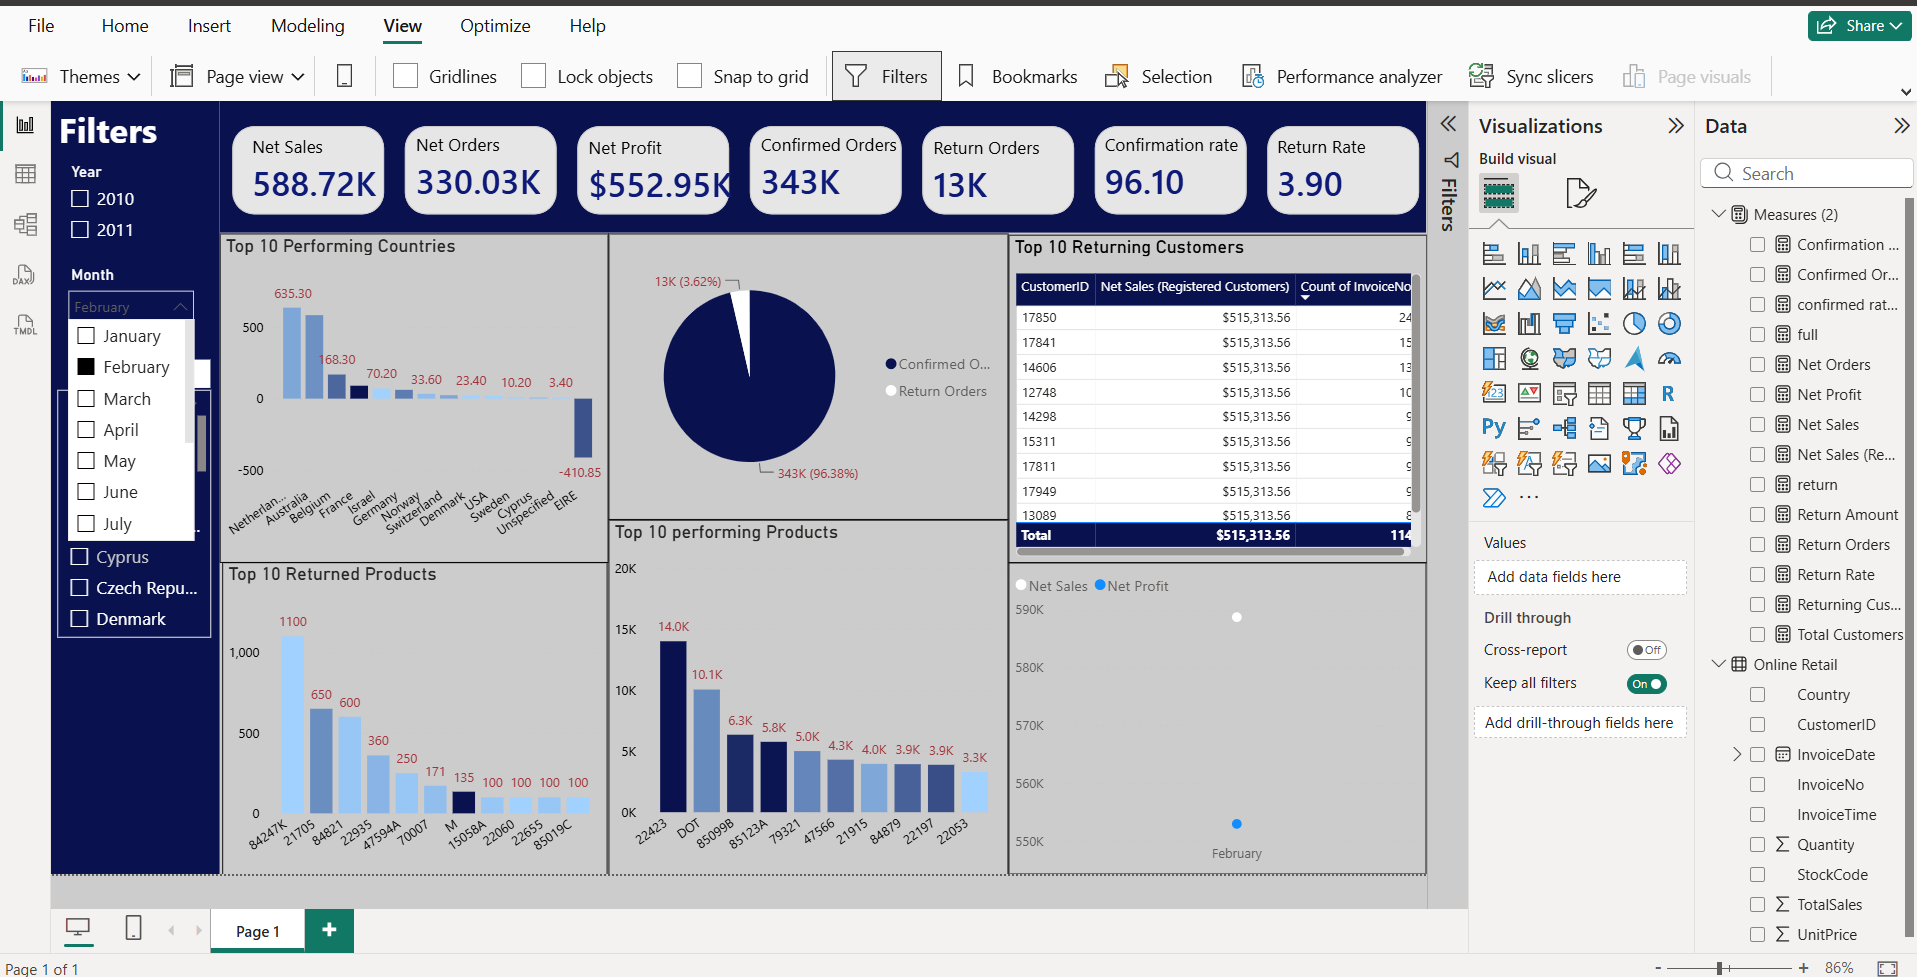

This screenshot's page, from the dashboard's own definition file:
{"tool":"powerbi","page":{"name":"Page 1","canvas":[1280,720],"ordinal":0},"visuals":[{"type":"shape","box":[0,0,156.8,719.9],"z":0},{"type":"shape","box":[156.8,0,1122.1,122.7],"z":1000},{"type":"barChart","fields":{"Category":["Online Retail.CustomerID"]},"box":[158.6,471.5,541.3,249.5],"z":2000},{"type":"slicer","fields":{"Values":["Online Retail.Country"]},"box":[2.3,540.7,143,179.1],"z":3000},{"type":"slicer","fields":{"Values":["Online Retail.InvoiceDate.Variation.Date Hierarchy.Year"]},"box":[2.8,52.4,157.8,105.7],"z":4000},{"type":"lineChart","title":"Net Sales and Net Profit Trend","fields":{"Category":["Online Retail.InvoiceDate.Variation.Date Hierarchy.Year","Online Retail.InvoiceDate.Variation.Date Hierarchy.Quarter","Online Retail.InvoiceDate.Variation.Date Hierarchy.Month","Online Retail.InvoiceDate.Variation.Date Hierarchy.Day"],"Y":["Measures (2).Net Sales","Measures (2).Net Profit"]},"box":[890.3,429.5,388.6,290.4],"z":5000},{"type":"shape","box":[168.8,23.1,141.3,82.3],"z":6000},{"type":"shape","box":[329.1,23.1,141.3,82.3],"z":7000},{"type":"shape","box":[489.5,23.1,141.3,82.3],"z":8000},{"type":"shape","box":[649.9,23.1,141.3,82.3],"z":9000},{"type":"shape","box":[810.2,23.1,141.3,82.3],"z":10000},{"type":"shape","box":[970.6,23.1,141.3,82.3],"z":11000},{"type":"shape","box":[1131,23.1,141.3,82.3],"z":12000},{"type":"cardVisual","fields":{"Data":["Measures (2).Net Sales"]},"box":[157.8,12,227.8,104.3],"z":13000},{"type":"cardVisual","fields":{"Data":["Measures (2).Net Orders"]},"box":[310.1,9.6,227.8,104.3],"z":14000},{"type":"cardVisual","fields":{"Data":["Measures (2).Confirmed Orders"]},"box":[631.2,9.6,196.2,104.3],"z":15000},{"type":"cardVisual","fields":{"Data":["Measures (2).Return Orders"]},"box":[791.8,12.3,196.2,104.3],"z":16000},{"type":"cardVisual","fields":{"Data":["Measures (2).Return Rate"]},"box":[1111.5,12,160.5,104.3],"z":17000},{"type":"cardVisual","fields":{"Data":["Measures (2).Net Profit"]},"box":[470.7,12.3,227.8,104.3],"z":18000},{"type":"cardVisual","fields":{"Data":["Measures (2).Confirmation rate"]},"box":[950.9,9.6,196.2,104.3],"z":19000},{"type":"listSlicer","fields":{"Values":["Online Retail.InvoiceDate.Variation.Date Hierarchy.Month"]},"box":[5.8,139.5,132.6,401.2],"z":20000},{"type":"clusteredColumnChart","title":"Top 10 Returned Products","fields":{"Category":["Online Retail.StockCode"],"Y":["Measures (2).Return Rate"]},"box":[159.5,429.5,358.6,291.8],"z":21000},{"type":"columnChart","title":"Top 10 performing Products","fields":{"Category":["Online Retail.StockCode"],"Y":["Measures (2).Net Sales"]},"box":[518.6,389.5,372.1,330.2],"z":22000},{"type":"tableEx","title":"Top 10 Returning Customers","fields":{"Values":["Online Retail.CustomerID","Measures (2).Net Sales (Registered Customers)","Online Retail.InvoiceNo"]},"box":[890.3,124.1,389.9,305.4],"z":23000},{"type":"textbox","box":[2.8,0,140.2,65.1],"z":24000},{"type":"pieChart","fields":{"Y":["Measures (2).Confirmed Orders","Measures (2).Return Orders"]},"box":[518.6,123.3,372.1,266.3],"z":25000},{"type":"clusteredColumnChart","title":"Top 10 Performing Countries","fields":{"Category":["Online Retail.Country"],"Y":["Measures (2).Net Sales"]},"box":[156.8,122.7,361.3,306.8],"z":26000}]}

Visuals, with their boxes on the page's 1280x720 design canvas (x1, y1, x2, y2). These are canvas units, not pixel positions in the 1917x977 screenshot, which may show the page scaled, cropped or inside an application window:
shape: bbox=[0, 0, 157, 720]
shape: bbox=[157, 0, 1279, 123]
barChart - Online Retail.CustomerID: bbox=[159, 472, 700, 721]
slicer - Online Retail.Country: bbox=[2, 541, 145, 720]
slicer - Online Retail.InvoiceDate.Variation.Date Hierarchy.Year: bbox=[3, 52, 161, 158]
"Net Sales and Net Profit Trend" lineChart: bbox=[890, 430, 1279, 720]
shape: bbox=[169, 23, 310, 105]
shape: bbox=[329, 23, 470, 105]
shape: bbox=[490, 23, 631, 105]
shape: bbox=[650, 23, 791, 105]
shape: bbox=[810, 23, 952, 105]
shape: bbox=[971, 23, 1112, 105]
shape: bbox=[1131, 23, 1272, 105]
cardVisual - Measures (2).Net Sales: bbox=[158, 12, 386, 116]
cardVisual - Measures (2).Net Orders: bbox=[310, 10, 538, 114]
cardVisual - Measures (2).Confirmed Orders: bbox=[631, 10, 827, 114]
cardVisual - Measures (2).Return Orders: bbox=[792, 12, 988, 117]
cardVisual - Measures (2).Return Rate: bbox=[1112, 12, 1272, 116]
cardVisual - Measures (2).Net Profit: bbox=[471, 12, 698, 117]
cardVisual - Measures (2).Confirmation rate: bbox=[951, 10, 1147, 114]
listSlicer - Online Retail.InvoiceDate.Variation.Date Hierarchy.Month: bbox=[6, 140, 138, 541]
"Top 10 Returned Products" clusteredColumnChart: bbox=[160, 430, 518, 721]
"Top 10 performing Products" columnChart: bbox=[519, 390, 891, 720]
"Top 10 Returning Customers" tableEx: bbox=[890, 124, 1280, 430]
textbox: bbox=[3, 0, 143, 65]
pieChart - Measures (2).Confirmed Orders x Measures (2).Return Orders: bbox=[519, 123, 891, 390]
"Top 10 Performing Countries" clusteredColumnChart: bbox=[157, 123, 518, 430]
